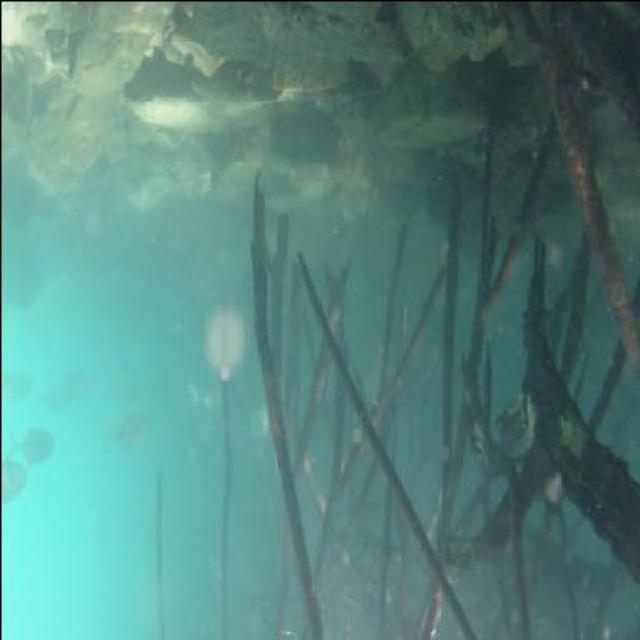Caranx_sexfasciatus_juvenile: (92, 407, 154, 462), (24, 360, 88, 411), (172, 364, 225, 418), (1, 418, 51, 473), (0, 458, 22, 502)
